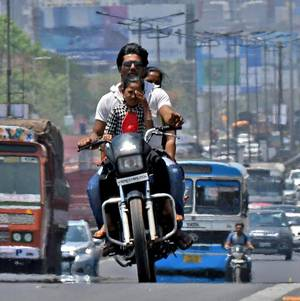h_bike: (83, 45, 184, 282)
h_nohelmet: (115, 40, 149, 83)
numplate: (114, 175, 150, 184)
